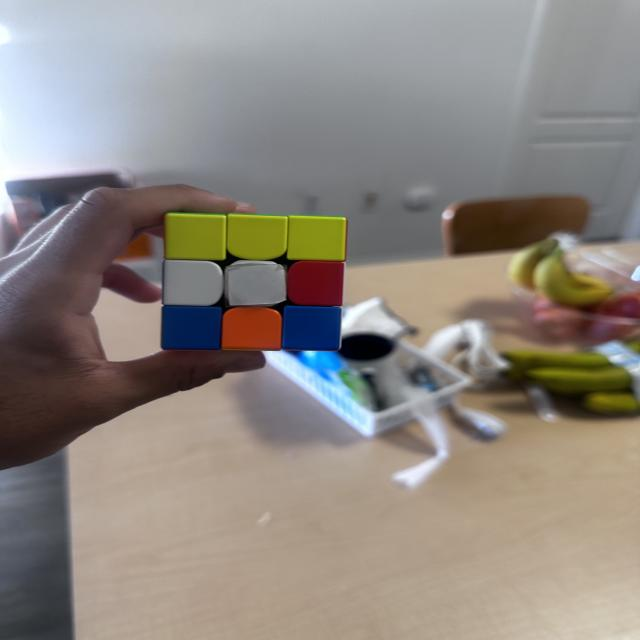sticker: (231, 218, 285, 260), (224, 308, 279, 349), (169, 216, 222, 258), (164, 261, 218, 300), (230, 266, 284, 304), (290, 263, 339, 304), (290, 218, 341, 257), (164, 307, 214, 344), (288, 310, 335, 349)
